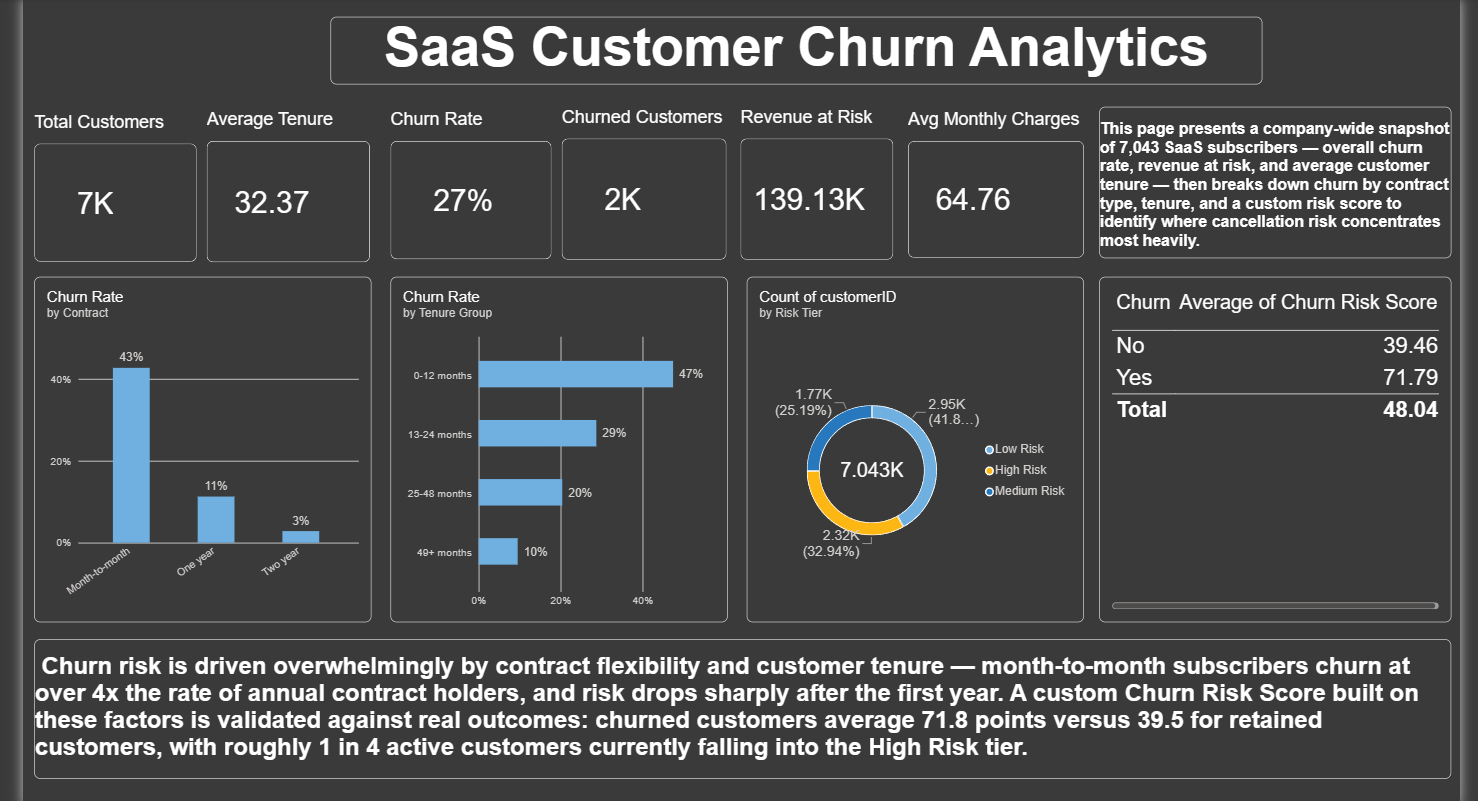

Layout of this report page (visuals, bound fields, positions):
{"tool":"powerbi","page":{"name":"Page 1","canvas":[1920,1080],"ordinal":0},"visuals":[{"type":"cardVisual","title":"Avg Monthly Charges","fields":{"Data":["saas_churn_analysis customers_raw.Avg Monthly Charges"]},"box":[1181.7,148.4,235.3,199.1],"z":0},{"type":"cardVisual","title":"Average Tenure","fields":{"Data":["saas_churn_analysis customers_raw.Avg Tenure"]},"box":[246.1,148.4,219,204.5],"z":1000},{"type":"cardVisual","title":"Churn Rate","fields":{"Data":["saas_churn_analysis customers_raw.Churn Rate"]},"box":[490.4,148.4,215.3,200.9],"z":2000},{"type":"cardVisual","title":"Churned Customers","fields":{"Data":["saas_churn_analysis customers_raw.Churned Customers"]},"box":[720.2,144.8,220.8,204.5],"z":3000},{"type":"cardVisual","title":"Total Customers","fields":{"Data":["saas_churn_analysis customers_raw.Total Customers"]},"box":[14.5,152,217.2,200.9],"z":4000},{"type":"cardVisual","title":"Revenue at Risk","fields":{"Data":["saas_churn_analysis customers_raw.Total Revenue at Risk"]},"box":[959.1,144.8,204.5,204.5],"z":5000},{"type":"tableEx","fields":{"Values":["saas_churn_analysis customers_raw.Churn","Avg(saas_churn_analysis customers_raw.Churn Risk Score)"]},"box":[1436.9,372.8,470.5,461.5],"z":6000},{"type":"textbox","box":[410.8,25.3,1245,90.5],"z":7000},{"type":"columnChart","fields":{"Category":["saas_churn_analysis customers_raw.Contract"],"Y":["saas_churn_analysis customers_raw.Churn Rate"]},"box":[14.5,372.8,450.6,461.5],"z":7001},{"type":"barChart","fields":{"Category":["saas_churn_analysis customers_raw.Tenure Group"],"Y":["saas_churn_analysis customers_raw.Churn Rate"]},"box":[490.4,372.8,450.6,461.5],"z":7002},{"type":"donutChart","fields":{"Category":["saas_churn_analysis customers_raw.Risk Tier"],"Y":["CountNonNull(saas_churn_analysis customers_raw.customerID)"]},"box":[966.4,372.8,450.6,461.5],"z":7003},{"type":"textbox","box":[14.5,856,1892.9,186.4],"z":7004},{"type":"textbox","box":[1436.9,144.8,470.5,202.7],"z":7005}]}

Visuals, with their boxes on the page's 1920x1080 design canvas (x1, y1, x2, y2). These are canvas units, not pixel positions in the 1478x801 screenshot, which may show the page scaled, cropped or inside an application window:
"Avg Monthly Charges" cardVisual: [1182,148,1417,348]
"Average Tenure" cardVisual: [246,148,465,353]
"Churn Rate" cardVisual: [490,148,706,349]
"Churned Customers" cardVisual: [720,145,941,349]
"Total Customers" cardVisual: [14,152,232,353]
"Revenue at Risk" cardVisual: [959,145,1164,349]
tableEx - saas_churn_analysis customers_raw.Churn x Avg(saas_churn_analysis customers_raw.Churn Risk Score): [1437,373,1907,834]
textbox: [411,25,1656,116]
columnChart - saas_churn_analysis customers_raw.Contract x saas_churn_analysis customers_raw.Churn Rate: [14,373,465,834]
barChart - saas_churn_analysis customers_raw.Tenure Group x saas_churn_analysis customers_raw.Churn Rate: [490,373,941,834]
donutChart - saas_churn_analysis customers_raw.Risk Tier x CountNonNull(saas_churn_analysis customers_raw.customerID): [966,373,1417,834]
textbox: [14,856,1907,1042]
textbox: [1437,145,1907,348]
